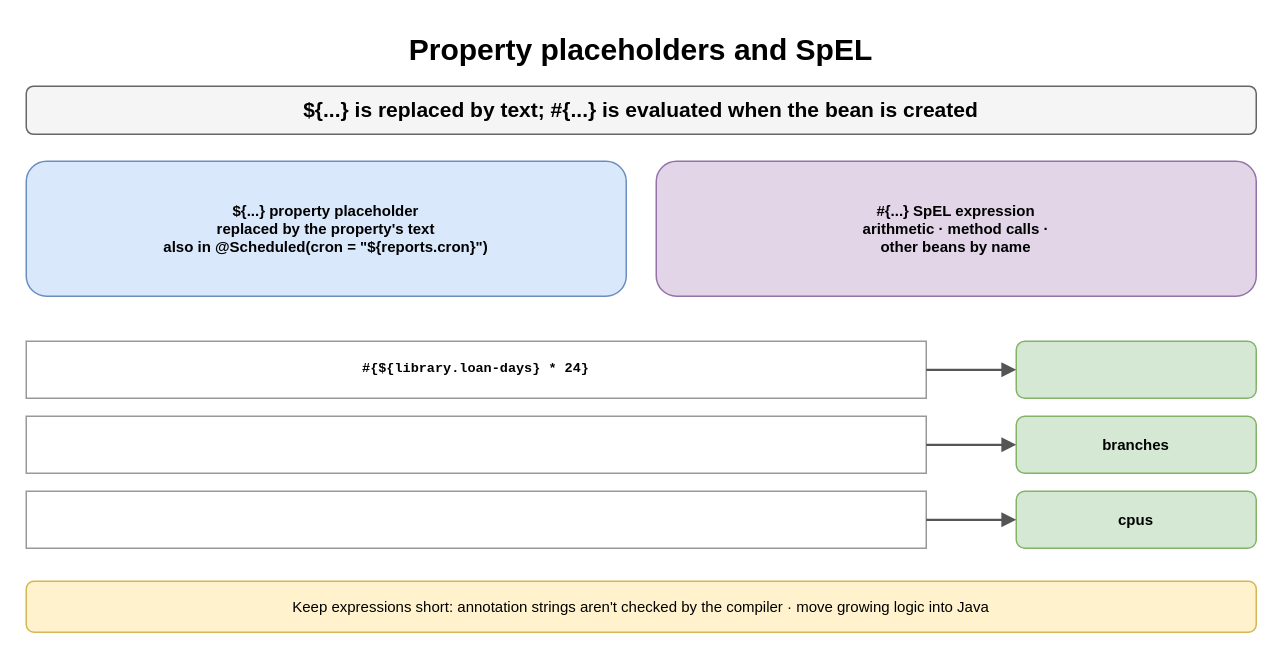
This 1283x659 diagram has some shape labels left out. Here are the shapes that lost their labels. From the top down, the box of each, then its label:
(1015, 340, 1256, 398): loanHours
(25, 415, 926, 473): #{'${library.branches:north,south}'.split(',')}
(25, 490, 926, 548): #{T(java.lang.Runtime).getRuntime().availableProcessors()}
